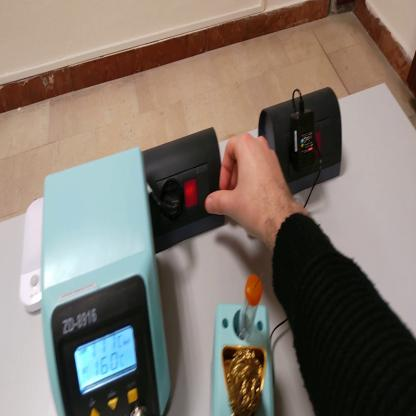hand: (206, 131, 291, 239)
socket: (144, 126, 227, 254), (259, 83, 342, 193)
welder base: (211, 269, 275, 414)
welder station: (40, 138, 173, 414)
